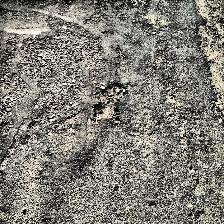pothole: (90, 81, 124, 121)
